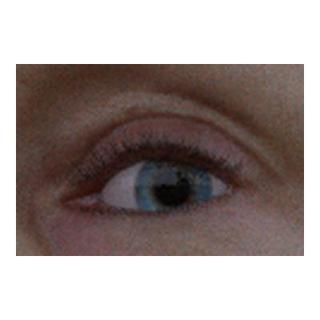pupil: (156, 173, 189, 206)
